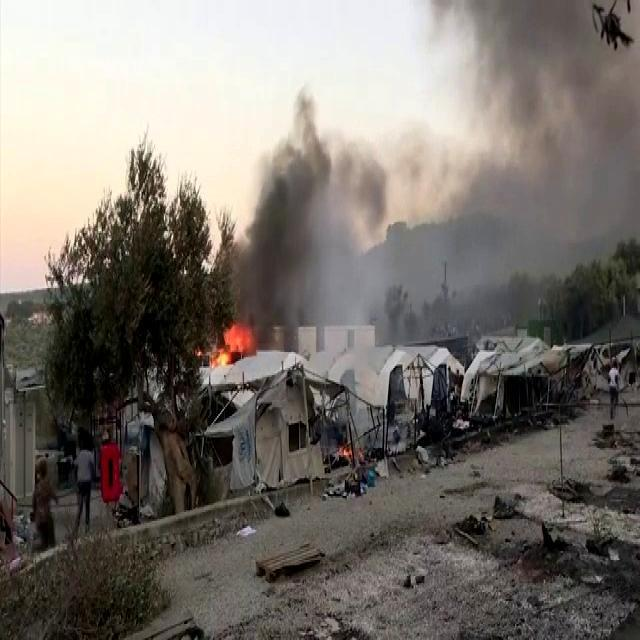Fire: (213, 315, 254, 364)
Smoke: (234, 96, 478, 371), (471, 0, 640, 329)
